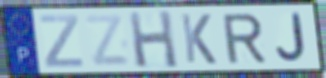H: (126, 8, 181, 70)
J: (274, 12, 308, 63)
K: (179, 12, 219, 66)
R: (220, 12, 268, 66)
Z: (83, 13, 133, 68), (37, 13, 85, 69)
